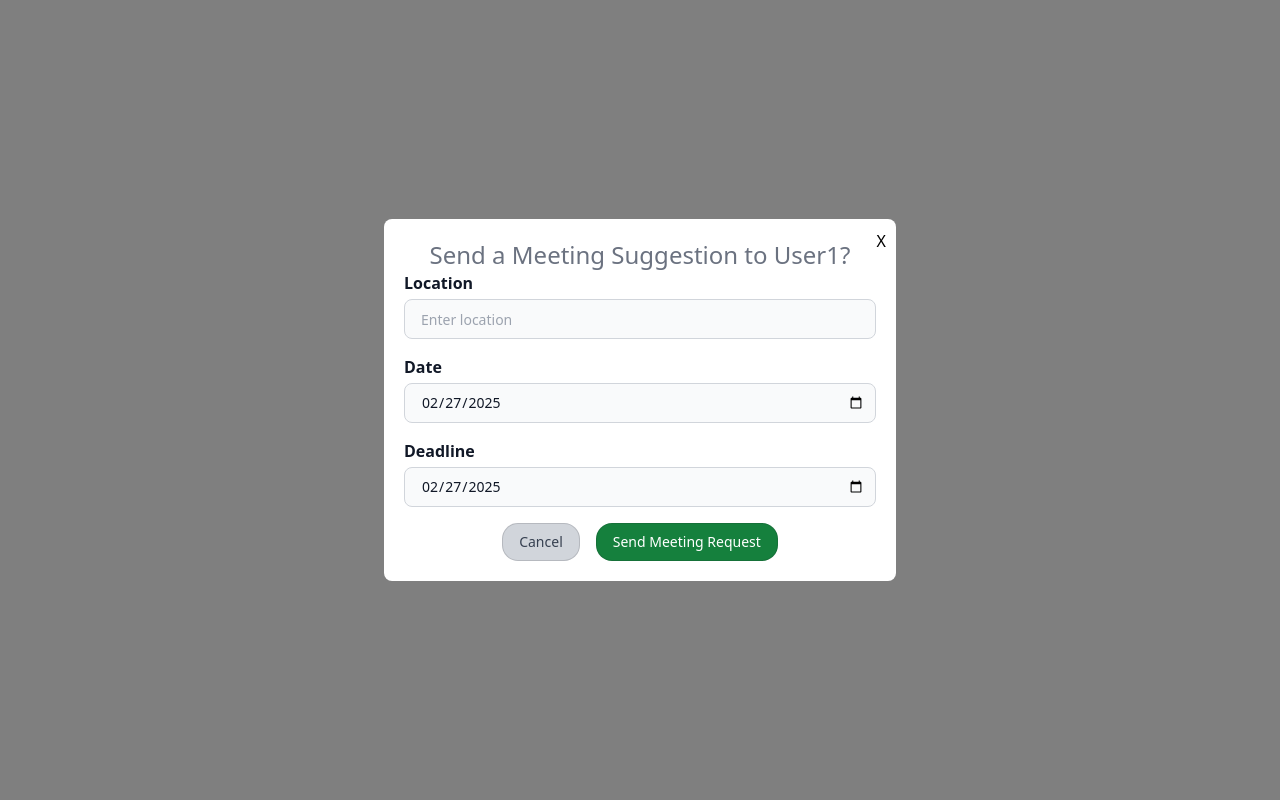
Test: MeetingPopup › displays error message when form validation fails
Click the submit button at (687, 542), box [596, 523, 778, 561]
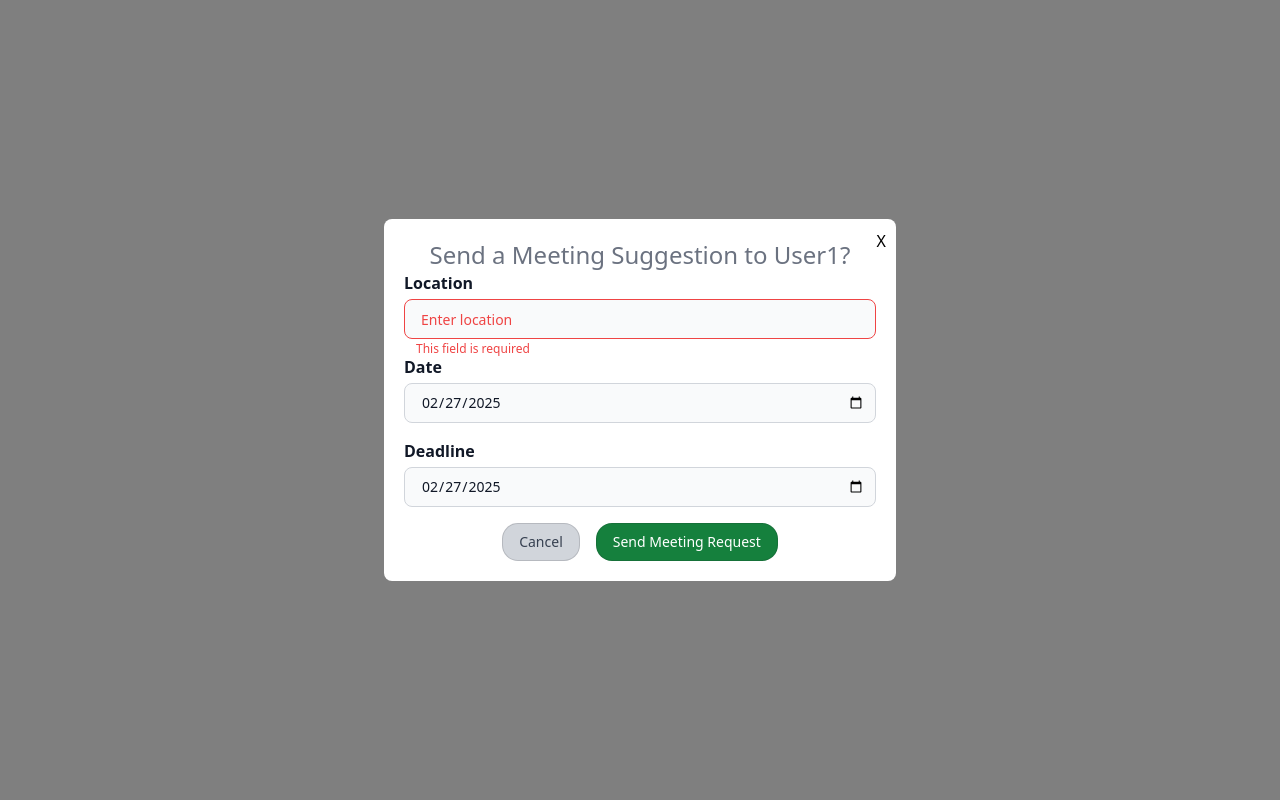
expect the element with class "tw-input-error-label" is shown: met, box [416, 341, 530, 357]
expect the element with class "tw-input-error-label" reads "This field is required": met, box [416, 340, 530, 357]
